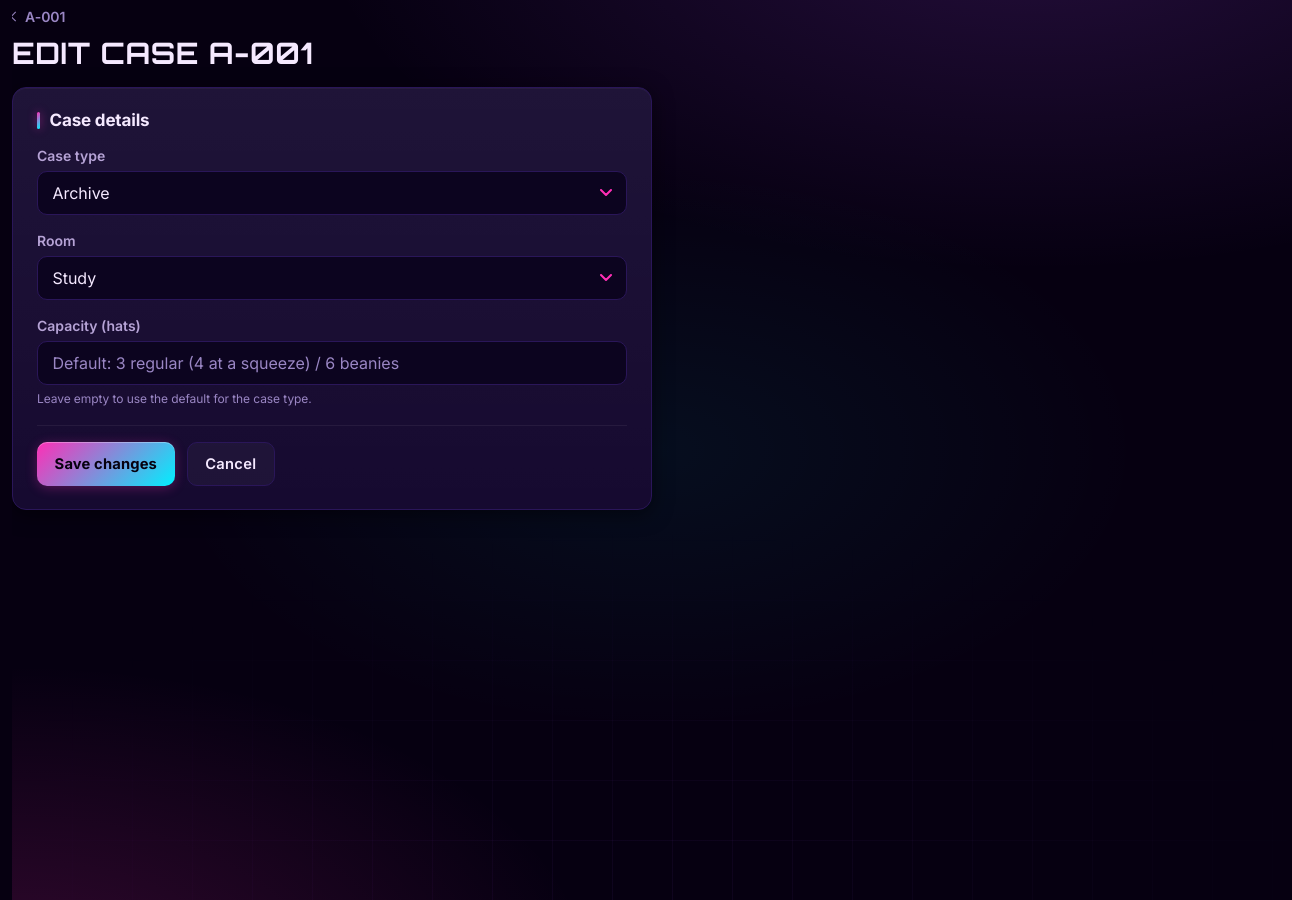
EditCasePage › warns about the renumber, and lands on the NEW id after a type change
The image size is (1292, 900).
Select "Daily wear" in the dropdown labelled "Case type". click: point(332, 193)
box: [37,171,627,215]
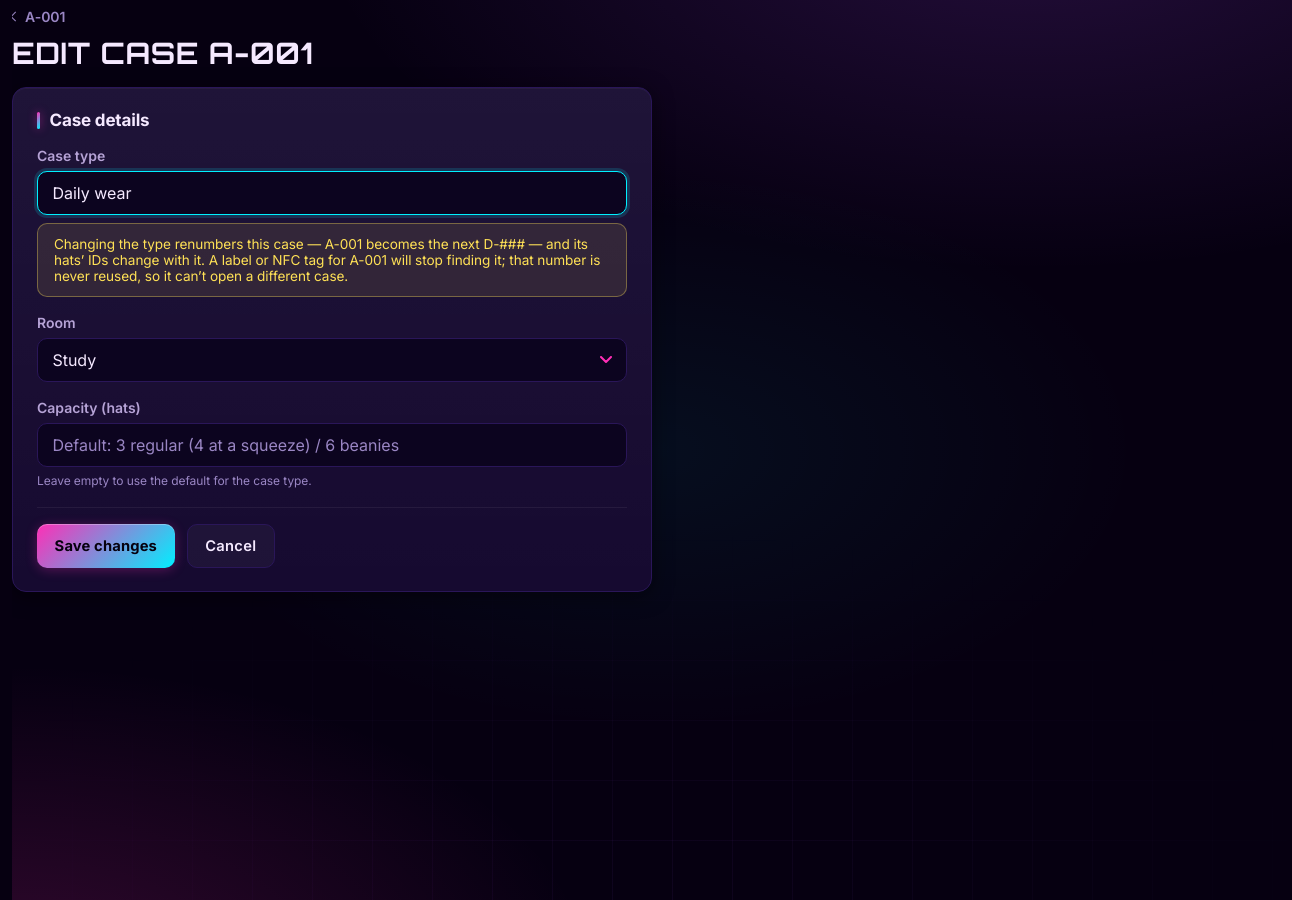
Expected: the text "never reused, so it can.t open a different case" is shown, [54,252,600,284]
Click the button "Save changes". click: point(106, 546)
box: [37,524,174,568]
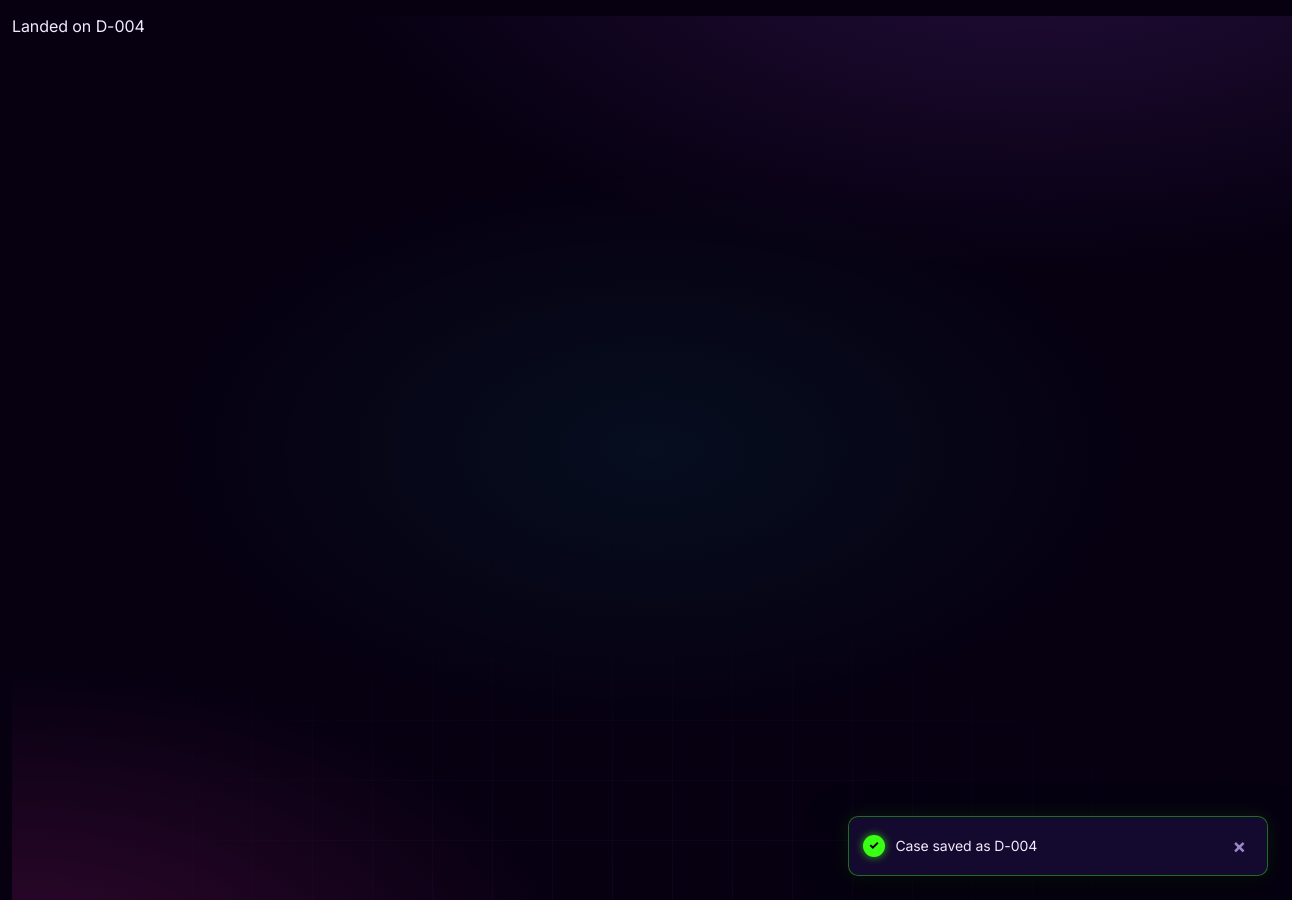
Expected: the text "Landed on D-004" is shown, [12,16,145,36]
Expected: the text "Case saved as D-004" is shown, [895,837,1037,854]
